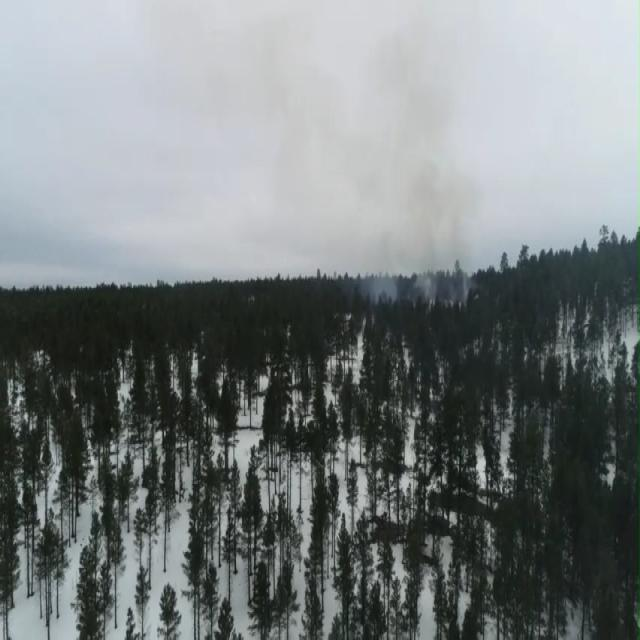Smoke: (368, 167, 468, 303)
